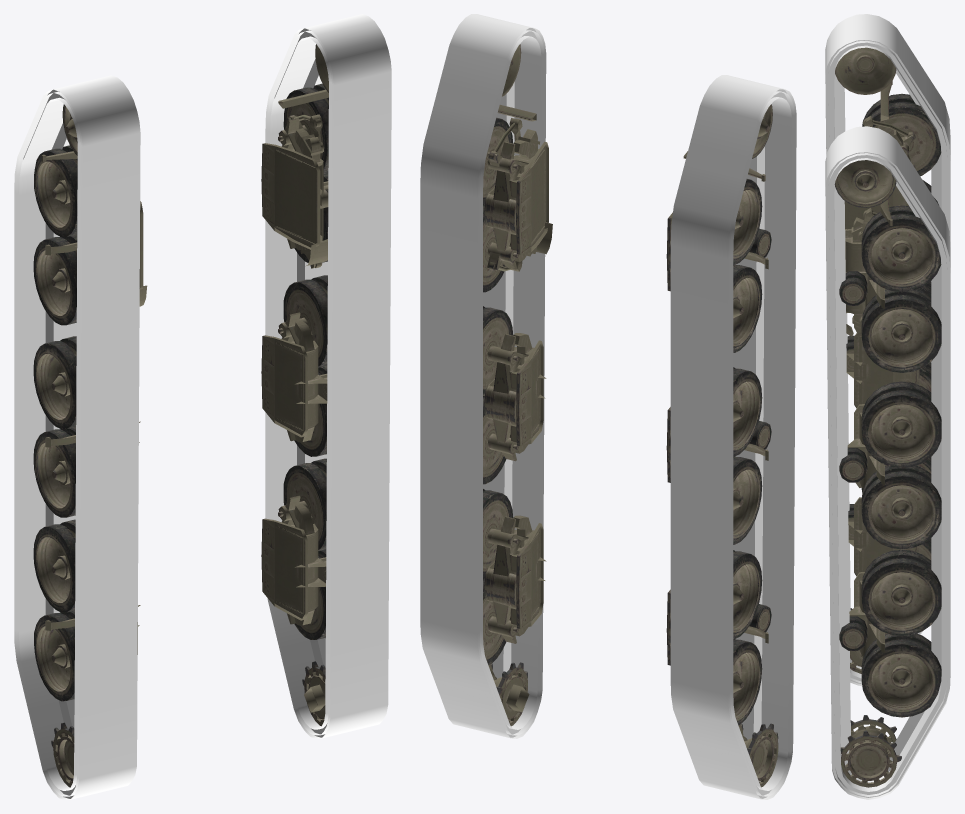
File: Chassis.glb
3 renders of one model, left to right at view 1: azimuth 30°, elevation 25°; view 2: azimuth 150°, elevation 25°; view 3: azimuth 270°, elevation 25°, orthographic. The views are drawn at different scales.
Parts seen in each view (by area): view 1: set_5_group_0, set_4_group_0, set_1_group_0, set_3_group_0; view 2: set_5_group_0, set_4_group_0, set_1_group_0, set_3_group_0, set_0_group_0; view 3: set_1_group_0, set_4_group_0, set_3_group_0, set_5_group_0.
Boxes of the visible parts, x1,y1,x2,y2 form: set_5_group_0: (14,75,140,799); set_4_group_0: (265,14,391,738); set_1_group_0: (261,44,328,726); set_3_group_0: (33,104,147,787); set_5_group_0: (670,75,796,799); set_4_group_0: (420,14,546,738); set_1_group_0: (483,44,552,726); set_3_group_0: (666,104,778,787); set_0_group_0: (487,601,518,643); set_1_group_0: (834,160,941,787); set_4_group_0: (825,126,950,799); set_3_group_0: (835,47,941,673); set_5_group_0: (825,14,950,686).
Bounding box in the file's own units: 3.41 × 7.23 × 1.27.
Materials: 6 (4 with a texture image).
